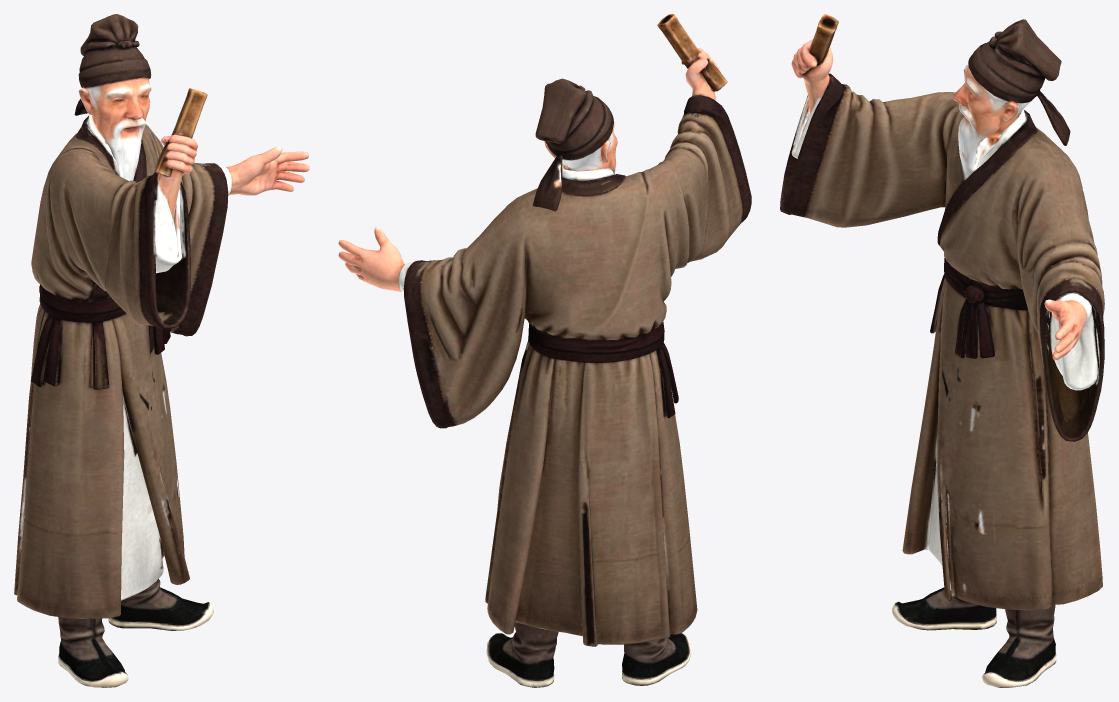
Rendered from p_story.glb.
The picture shows the model from 3 angles, left to right: view 1: azimuth 30°, elevation 25°; view 2: azimuth 150°, elevation 25°; view 3: azimuth 270°, elevation 25°; orthographic projection. The views are drawn at different scales.
Visible parts, largest first — view 1: p_story; view 2: p_story; view 3: p_story.
Part boxes in pixels (left/top/right/bottom): p_story: left=14, top=14, right=309, bottom=687; p_story: left=338, top=14, right=751, bottom=687; p_story: left=780, top=14, right=1104, bottom=687.
Size of the model in its own units: 0.9298 by 1.7 by 0.7967.
1 material, 1 textured.
